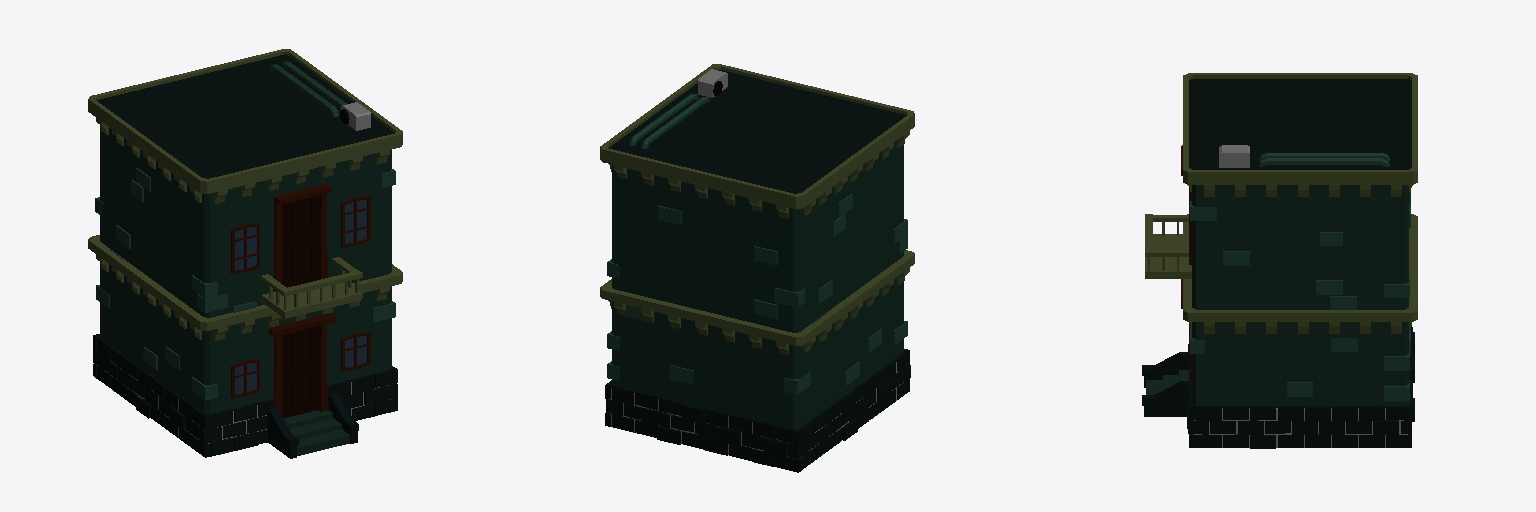
Rendered from 2Story_Balcony_Mat.obj.
3 views of the same model, side by side, from view 1: azimuth 30°, elevation 25°; view 2: azimuth 150°, elevation 25°; view 3: azimuth 270°, elevation 25° (orthographic).
Visible parts, largest first — view 1: 2Story_Balcony_Mat_Cube.028; view 2: 2Story_Balcony_Mat_Cube.028; view 3: 2Story_Balcony_Mat_Cube.028.
Part boxes in pixels (left/top/right/bottom): 2Story_Balcony_Mat_Cube.028: left=88, top=49, right=402, bottom=458; 2Story_Balcony_Mat_Cube.028: left=600, top=64, right=914, bottom=472; 2Story_Balcony_Mat_Cube.028: left=1142, top=73, right=1417, bottom=448.
Size of the model in its own units: 2.16 by 2.94 by 2.53.